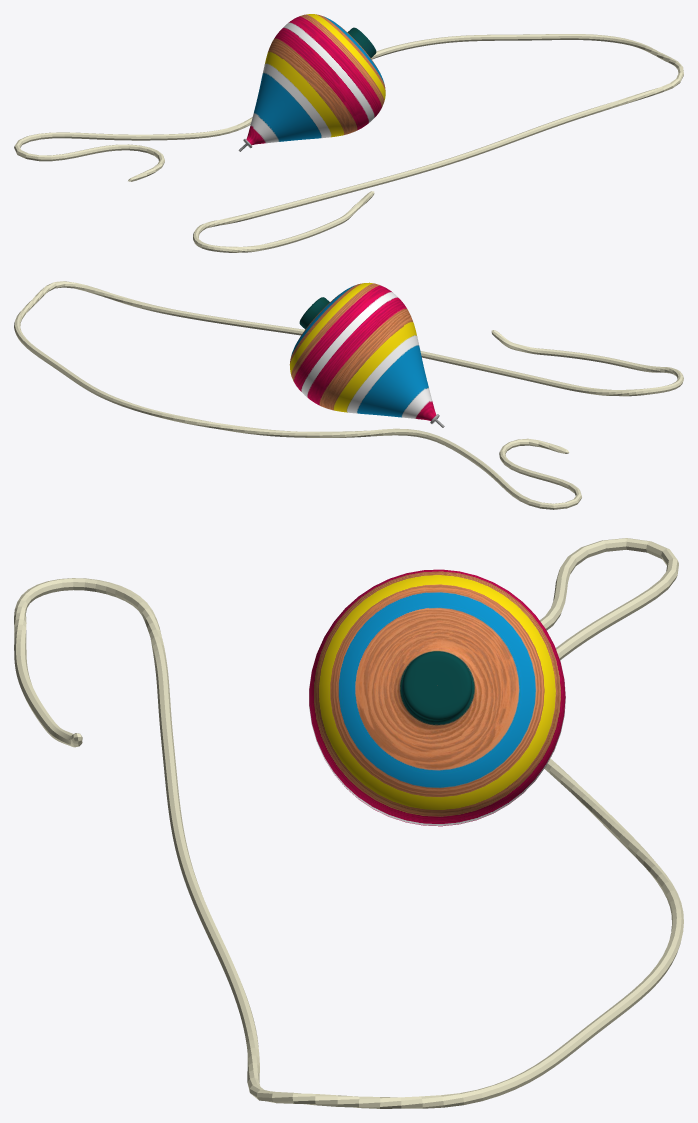
File: Trompo.glb
The picture shows the model from 3 angles, top to bottom: view 1: azimuth 30°, elevation 25°; view 2: azimuth 150°, elevation 25°; view 3: azimuth 270°, elevation 25°; orthographic projection. The views are drawn at different scales.
Parts seen in each view (by area): view 1: Esfera.001, Curva NURBS; view 2: Esfera.001, Curva NURBS; view 3: Esfera.001, Curva NURBS.
Part boxes in pixels (box(x1,y1,x2,y2)): Esfera.001: box(238, 14, 385, 151); Curva NURBS: box(14, 34, 683, 252); Esfera.001: box(289, 282, 444, 427); Curva NURBS: box(14, 281, 683, 509); Esfera.001: box(309, 569, 565, 826); Curva NURBS: box(14, 538, 683, 1108).
Size of the model in its own units: 11.1 by 2.09 by 5.53.
Materials: 3 (1 with a texture image).
